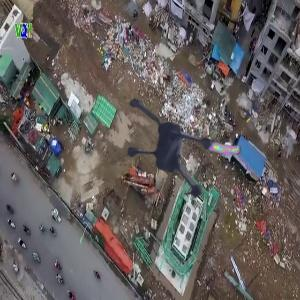drone: (112, 78, 257, 223)
